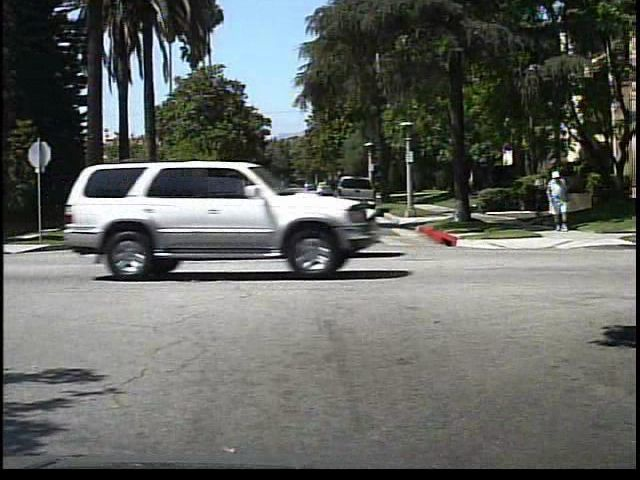person: (542, 168, 572, 234)
